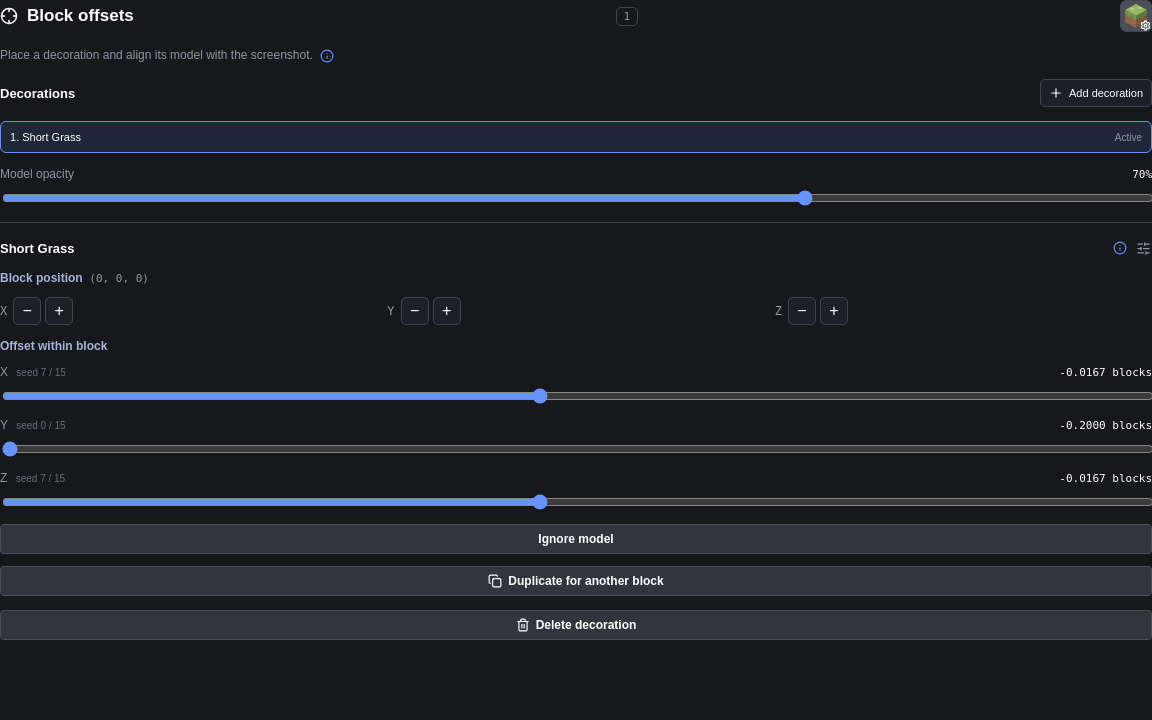
Test: grass offset settings › uses the grass colormap picker for decoration tint
The image size is (1152, 720).
Click the button named "Decoration settings". click: (1143, 248)
box: [1134,239,1151,257]
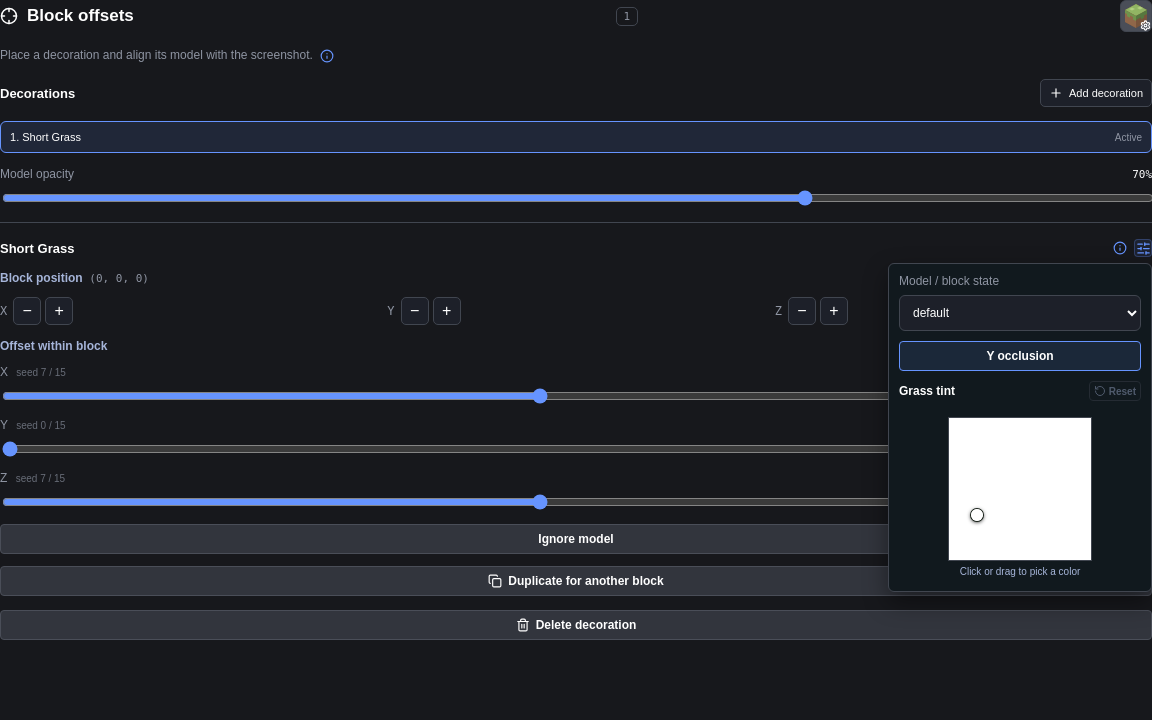
expect the text "Grass tint" is shown: met, box [899,384,955,398]
expect the button "Y occlusion" is shown: met, box [899,341,1141,371]
